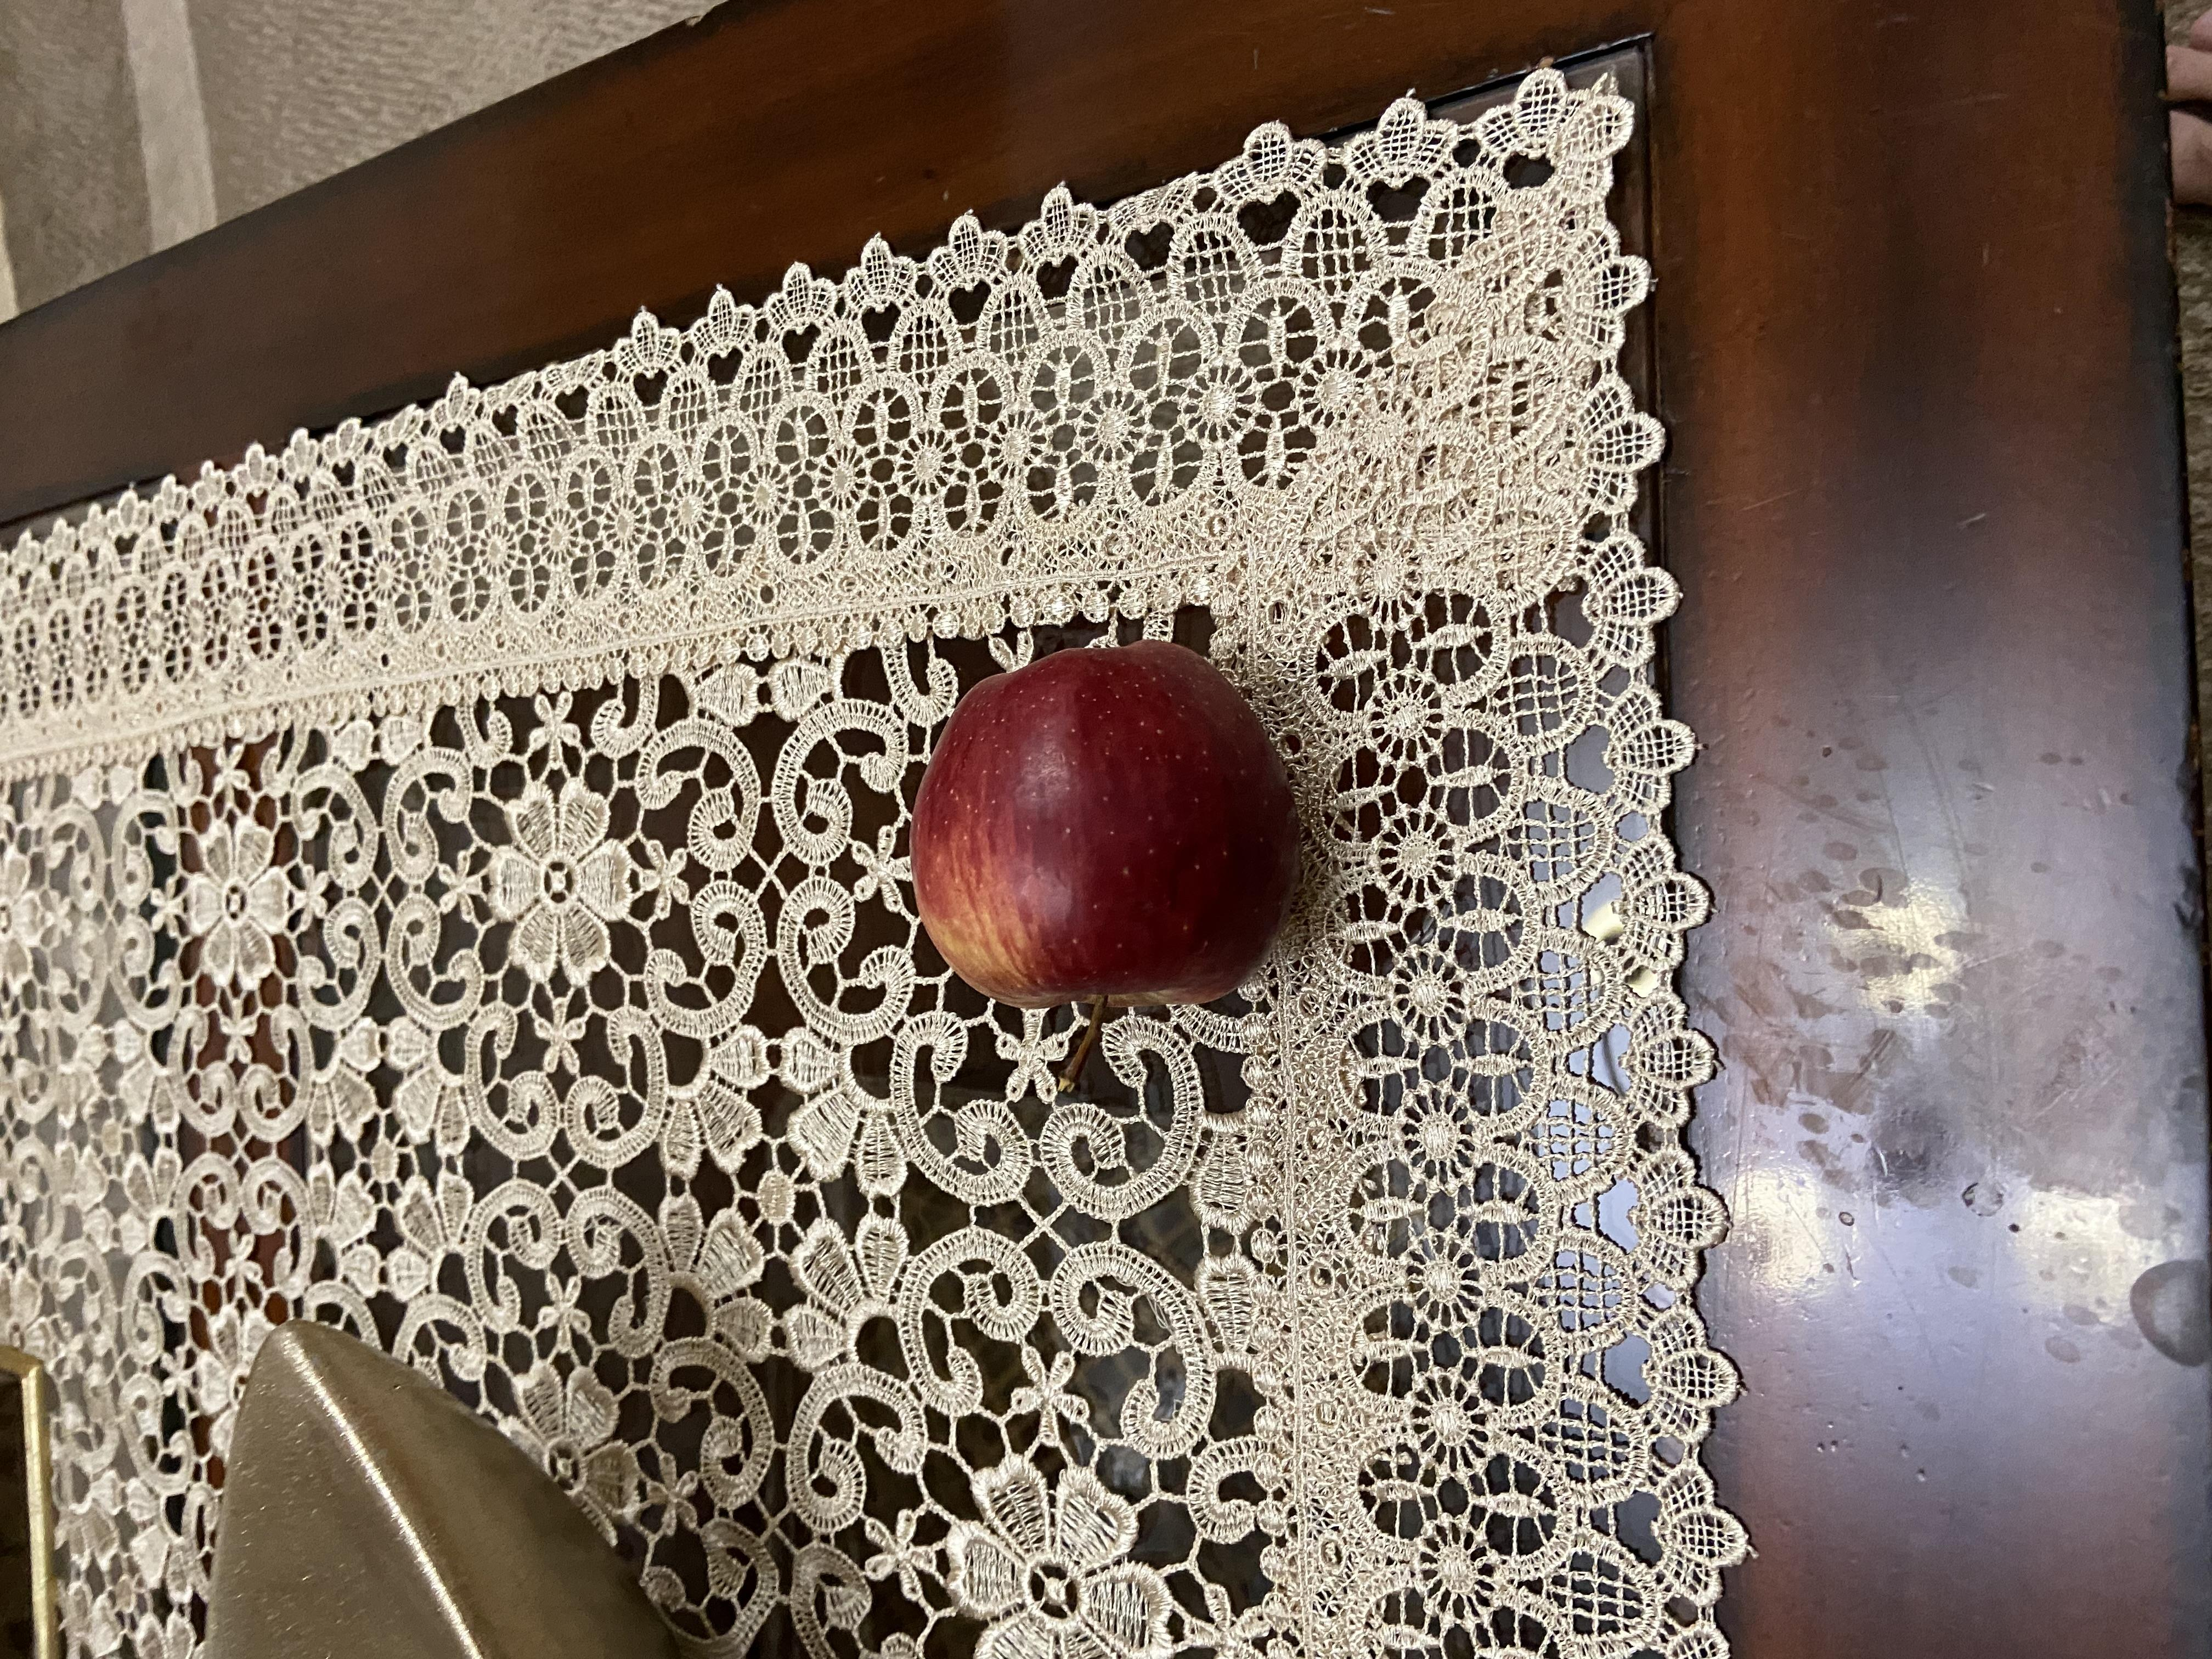Apple: (836, 674, 1369, 983)
